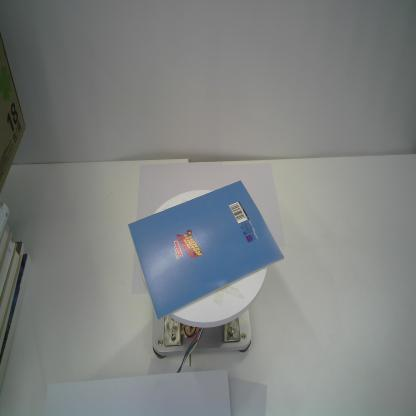Stationery: (128, 179, 286, 321)
